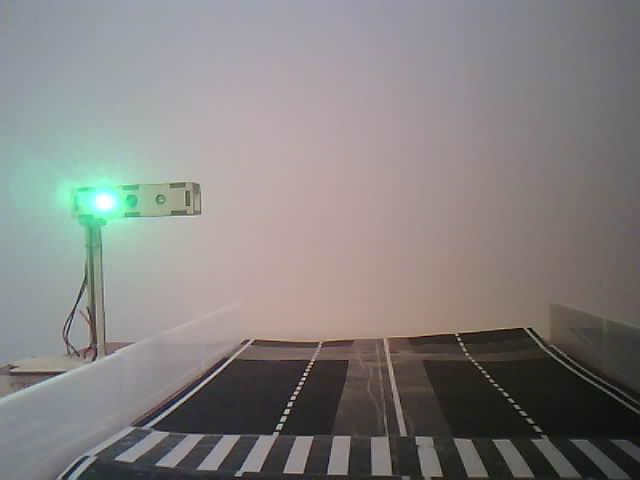crosswalk: (66, 421, 640, 478)
green: (62, 179, 217, 290)
